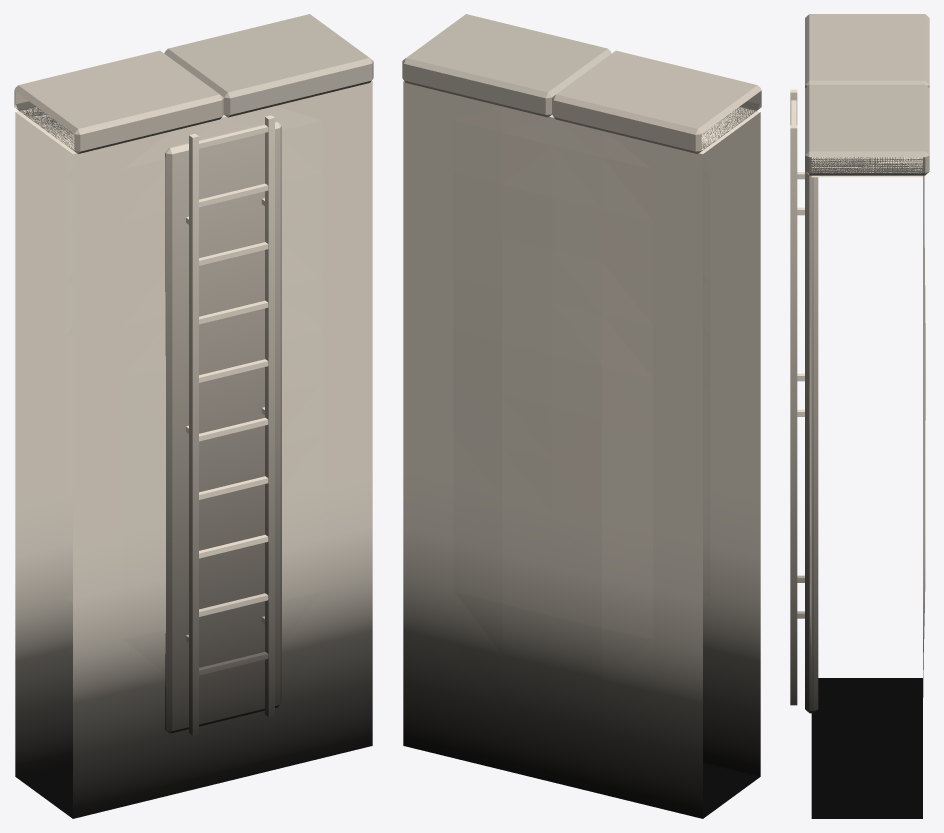
File: SM_VKI_Wall_Sewer_Ladder_150_Full.fbx
3 views of the same model, side by side, from view 1: azimuth 30°, elevation 25°; view 2: azimuth 150°, elevation 25°; view 3: azimuth 270°, elevation 25° (orthographic). The views are drawn at different scales.
Parts seen in each view (by area): view 1: SM_VKI_Wall_Sewer_Ladder_150_Full.001; view 2: SM_VKI_Wall_Sewer_Ladder_150_Full.001; view 3: SM_VKI_Wall_Sewer_Ladder_150_Full.001.
Boxes of the visible parts, x1=… form: SM_VKI_Wall_Sewer_Ladder_150_Full.001: x1=14, y1=14, x2=373, y2=818; SM_VKI_Wall_Sewer_Ladder_150_Full.001: x1=402, y1=14, x2=761, y2=818; SM_VKI_Wall_Sewer_Ladder_150_Full.001: x1=790, y1=14, x2=929, y2=818.
Bounding box in the file's own units: 1.5 × 3.3 × 0.626.
